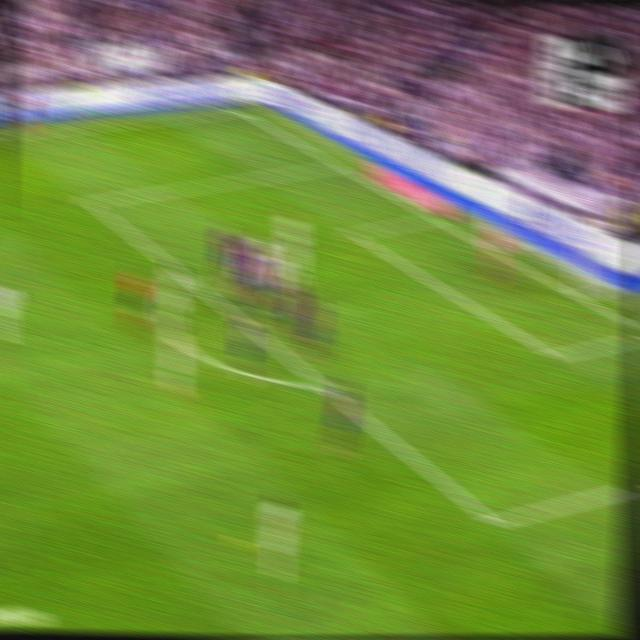bigarea_bottom_inner: (480, 503, 505, 540)
bigarea_top_inner: (79, 189, 103, 214)
bigarea_top_outter: (326, 153, 347, 174)
bottom_arc_area_intersection: (311, 371, 333, 398)
corner: (229, 101, 251, 118)
smallarea_bottom_inner: (543, 342, 565, 370)
smallarea_top_inner: (343, 220, 367, 245)
top_arc_area_intersection: (174, 263, 196, 288)
